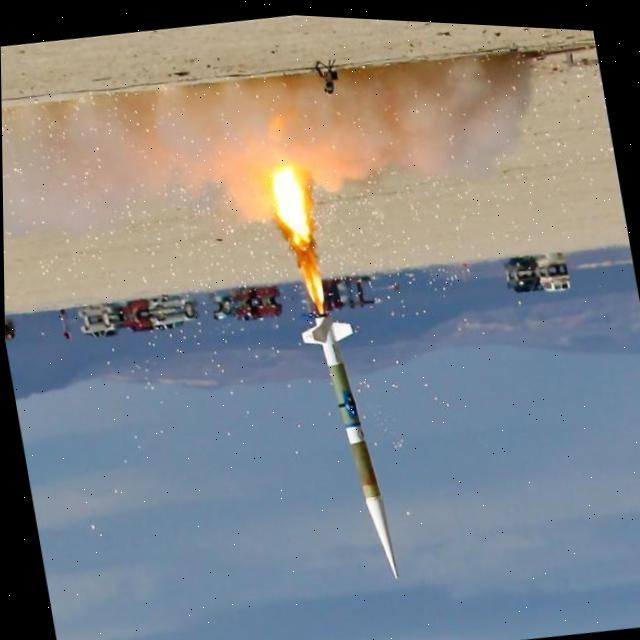missile: (290, 303, 405, 587)
